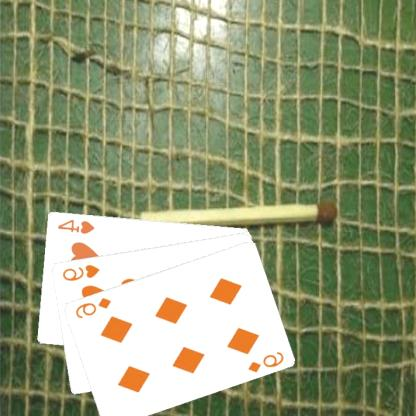4H: (57, 216, 97, 235)
6D: (74, 295, 114, 320), (247, 349, 286, 374)
9H: (61, 261, 102, 282)
